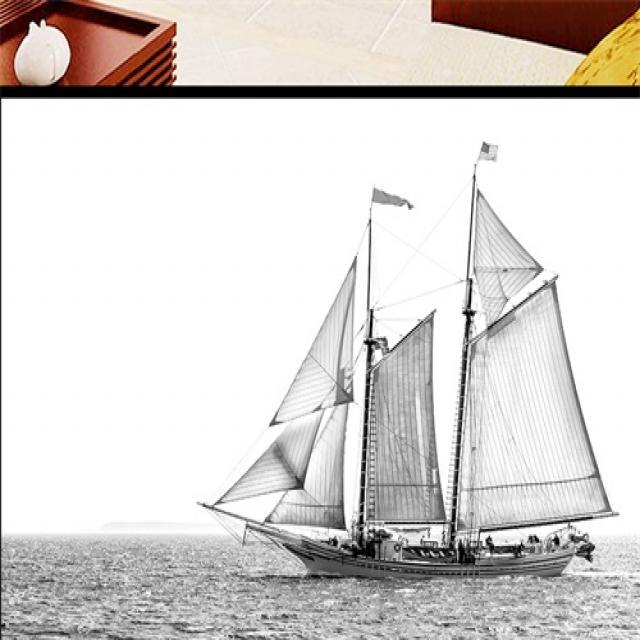Ship: (191, 171, 611, 586)
